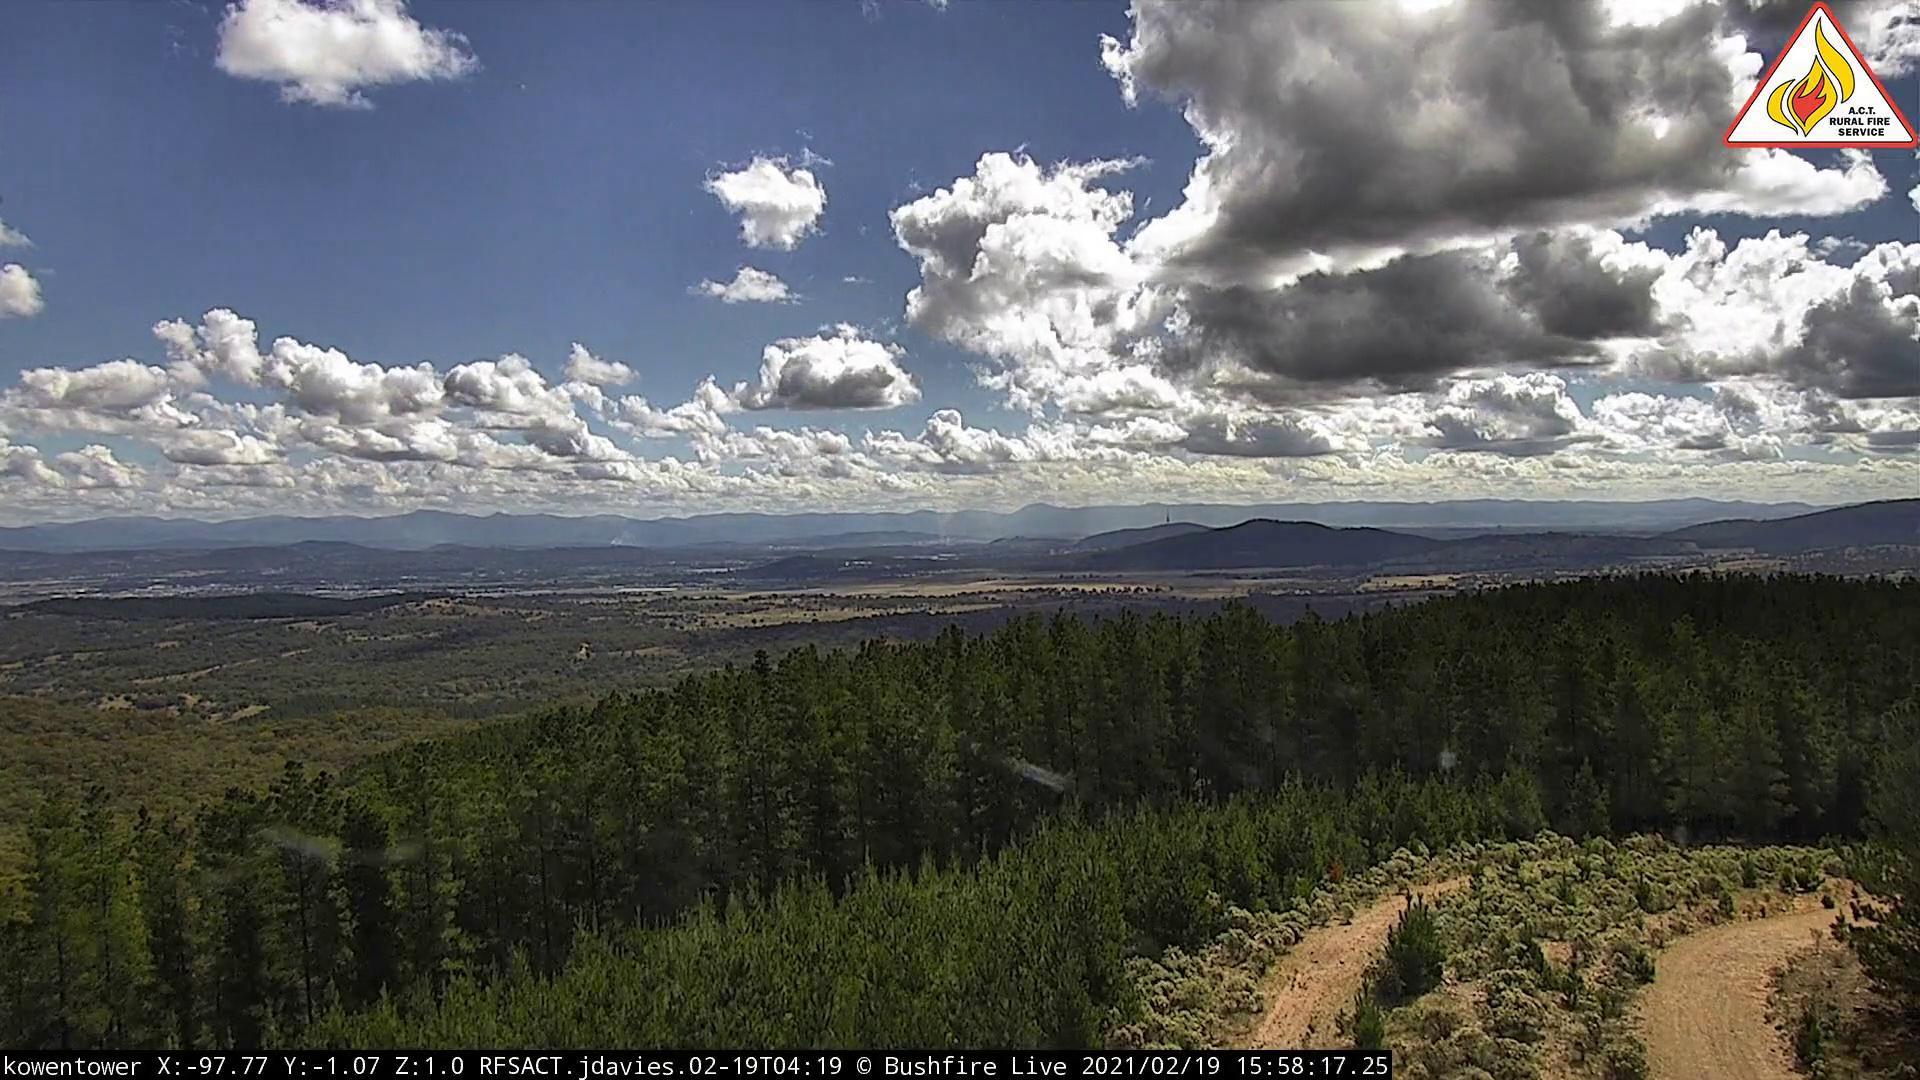instance_salient_object: (934, 504, 1023, 554), (611, 534, 636, 554)
